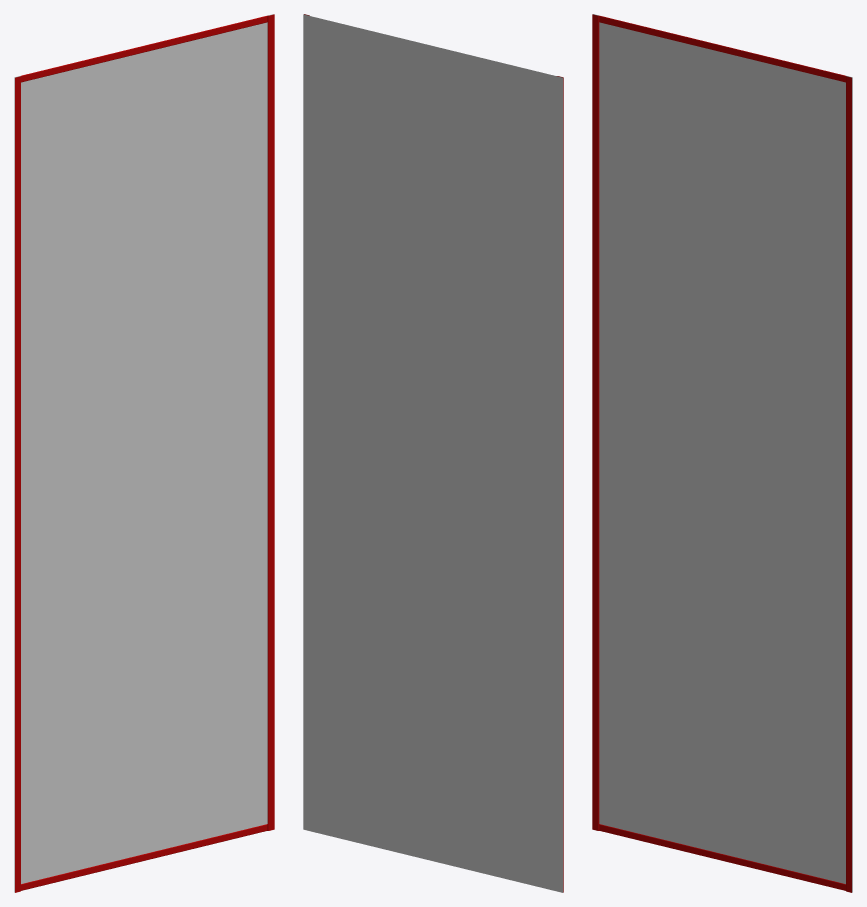
The model's file is Wall02c.fbx.
3 renders of one model, left to right at view 1: azimuth 30°, elevation 25°; view 2: azimuth 150°, elevation 25°; view 3: azimuth 330°, elevation 25°, orthographic.
Parts seen in each view (by area): view 1: Wall02c; view 2: Wall02c; view 3: Wall02c.
Part boxes in pixels (bbox=[...]): Wall02c: bbox=[14, 14, 274, 892]; Wall02c: bbox=[303, 14, 563, 892]; Wall02c: bbox=[592, 14, 852, 892].
Bounding box in the file's own units: 100 × 300 × 0.348.
